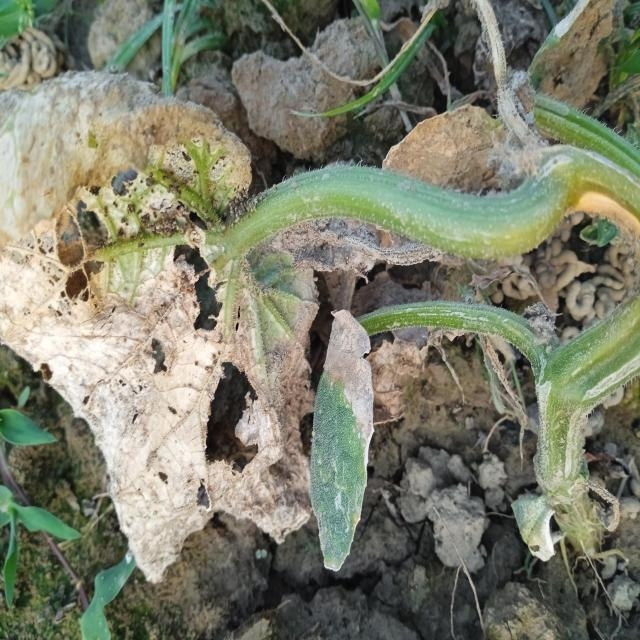cucumber_bacterial: (0, 77, 310, 583), (317, 287, 409, 577), (384, 92, 571, 230), (498, 461, 638, 580)
